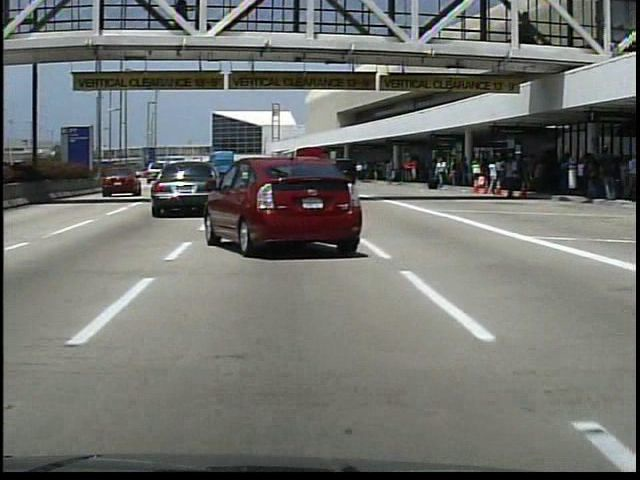person: (501, 151, 525, 204), (434, 158, 452, 193), (175, 2, 191, 34), (407, 158, 419, 185), (356, 163, 366, 183)
